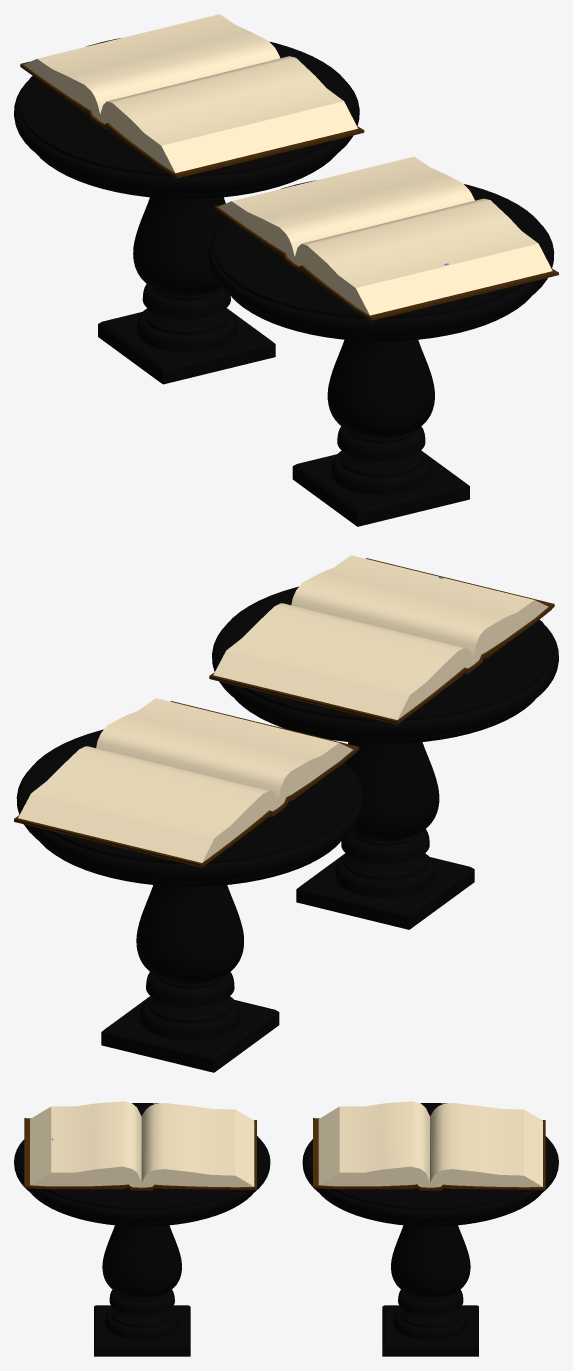
Rendered from mcmc.glb.
3 renders of one model, top to bottom at view 1: azimuth 30°, elevation 25°; view 2: azimuth 150°, elevation 25°; view 3: azimuth 270°, elevation 25°, orthographic. The views are drawn at different scales.
Parts seen in each view (by area): view 1: table2, table, BookOpen_LP, BookOpen_LP2; view 2: table, table2, BookOpen_LP2, BookOpen_LP; view 3: BookOpen_LP, BookOpen_LP2, table, table2.
Boxes of the visible parts, bbox=[...] form: table2: bbox=[208, 180, 554, 526]; table: bbox=[14, 38, 359, 384]; BookOpen_LP: bbox=[20, 14, 364, 178]; BookOpen_LP2: bbox=[215, 156, 558, 320]; table: bbox=[16, 729, 363, 1072]; table2: bbox=[212, 586, 558, 929]; BookOpen_LP2: bbox=[209, 555, 554, 724]; BookOpen_LP: bbox=[14, 698, 359, 867]; BookOpen_LP: bbox=[313, 1101, 545, 1190]; BookOpen_LP2: bbox=[24, 1101, 256, 1190]; table: bbox=[302, 1103, 558, 1356]; table2: bbox=[14, 1103, 270, 1356].
Size of the model in its own units: 2.7 by 2.37 by 5.73.
6 materials, 2 textured.
